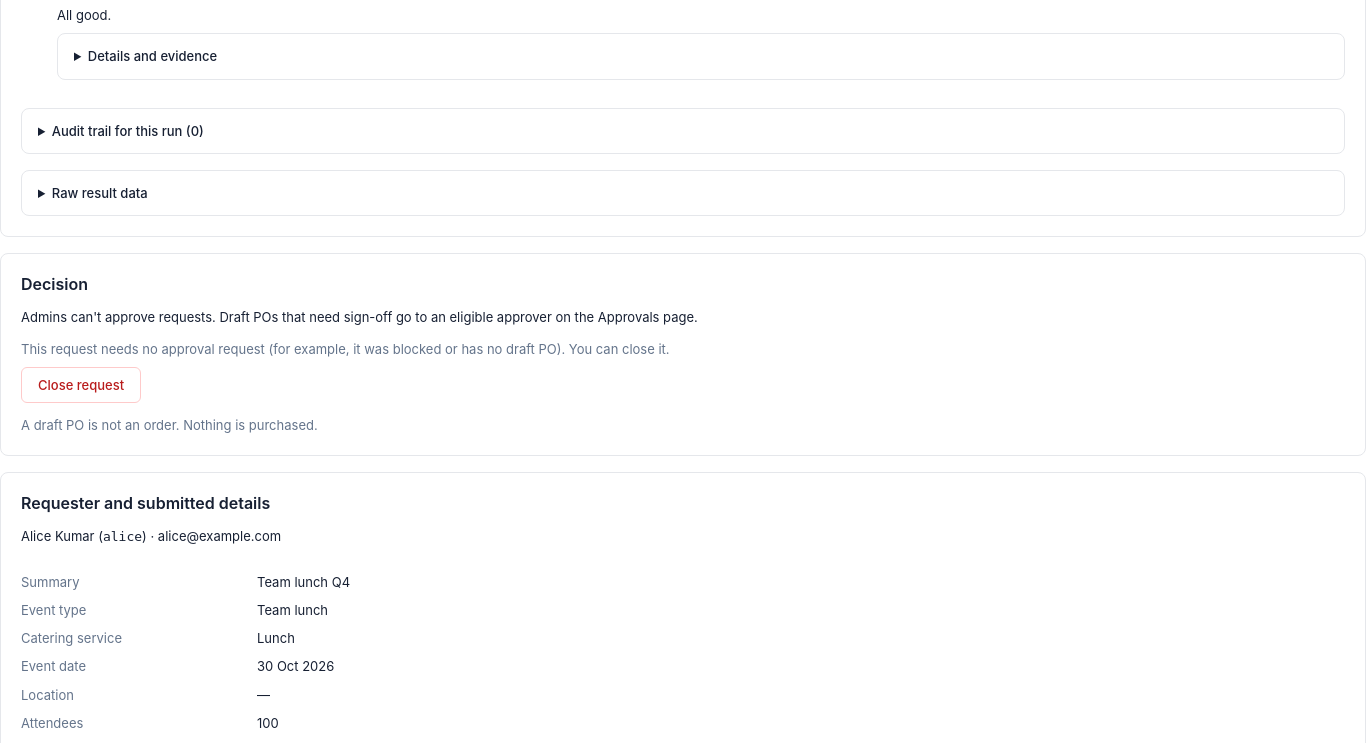
it: AdminRequestDetailPage › closes a reviewed request only after confirming with a reason
(page scrolled)
Step 1. Click the button "Close request" → (81, 385), box [21,367,141,403]
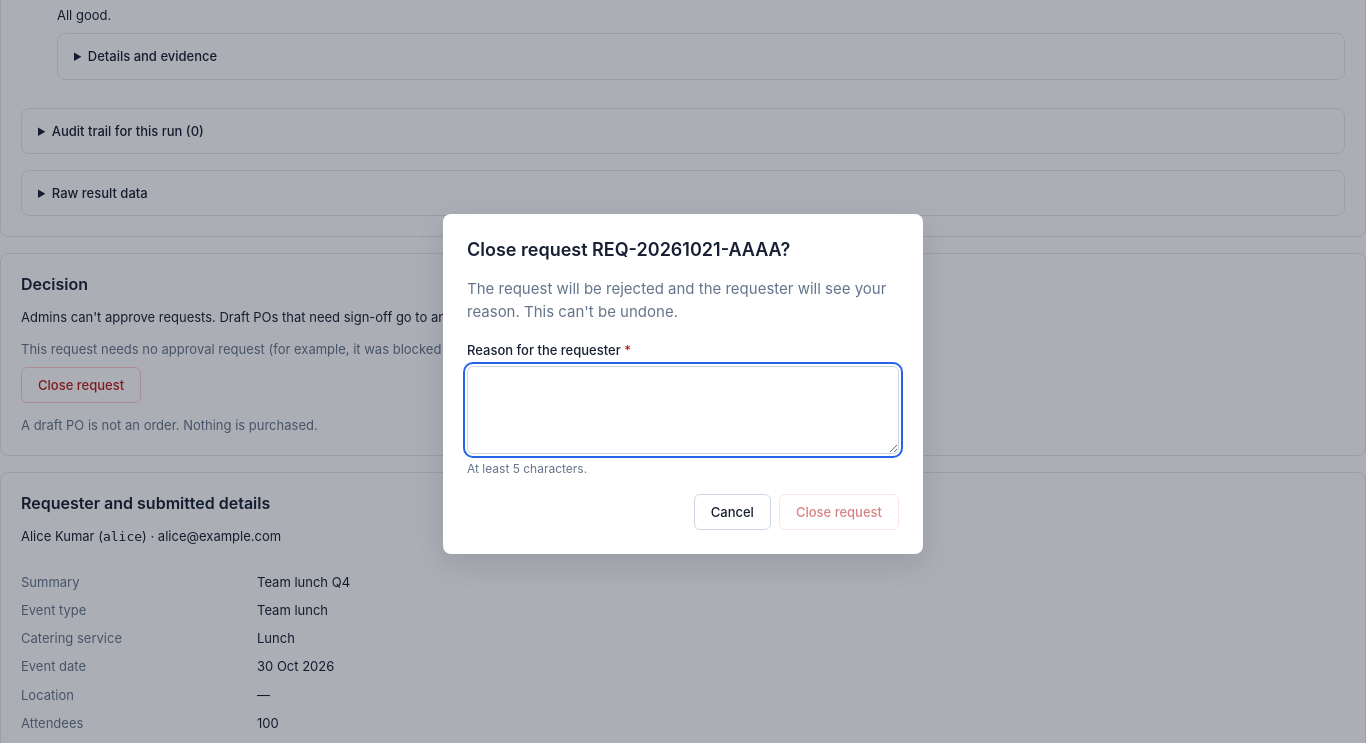
expect the button "Close request" is disabled: met, box [779,494,899,530]
Step 2. Type "Blocked by policy" into the text box labelled "Reason for the requester" → (683, 410), box [467,366,899,454]
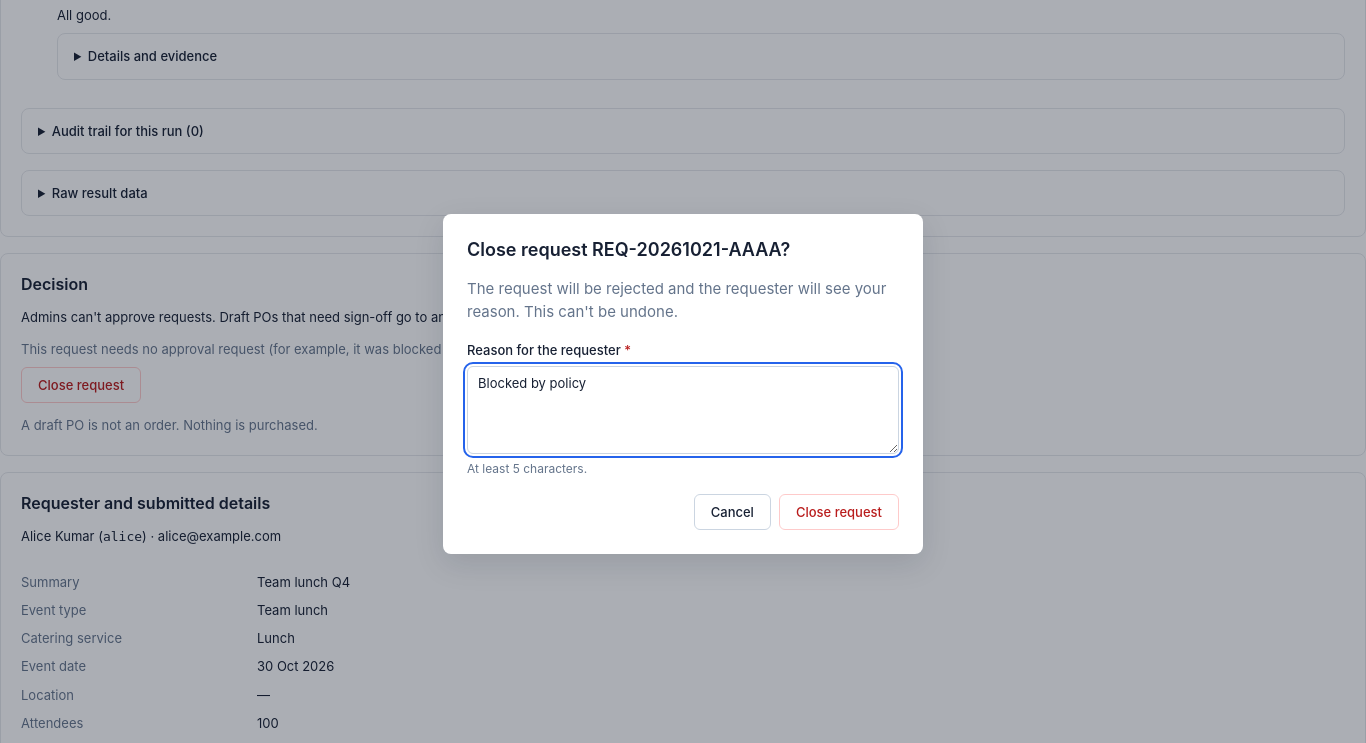
Step 3. Click the button "Close request" → (839, 512), box [779,494,899,530]
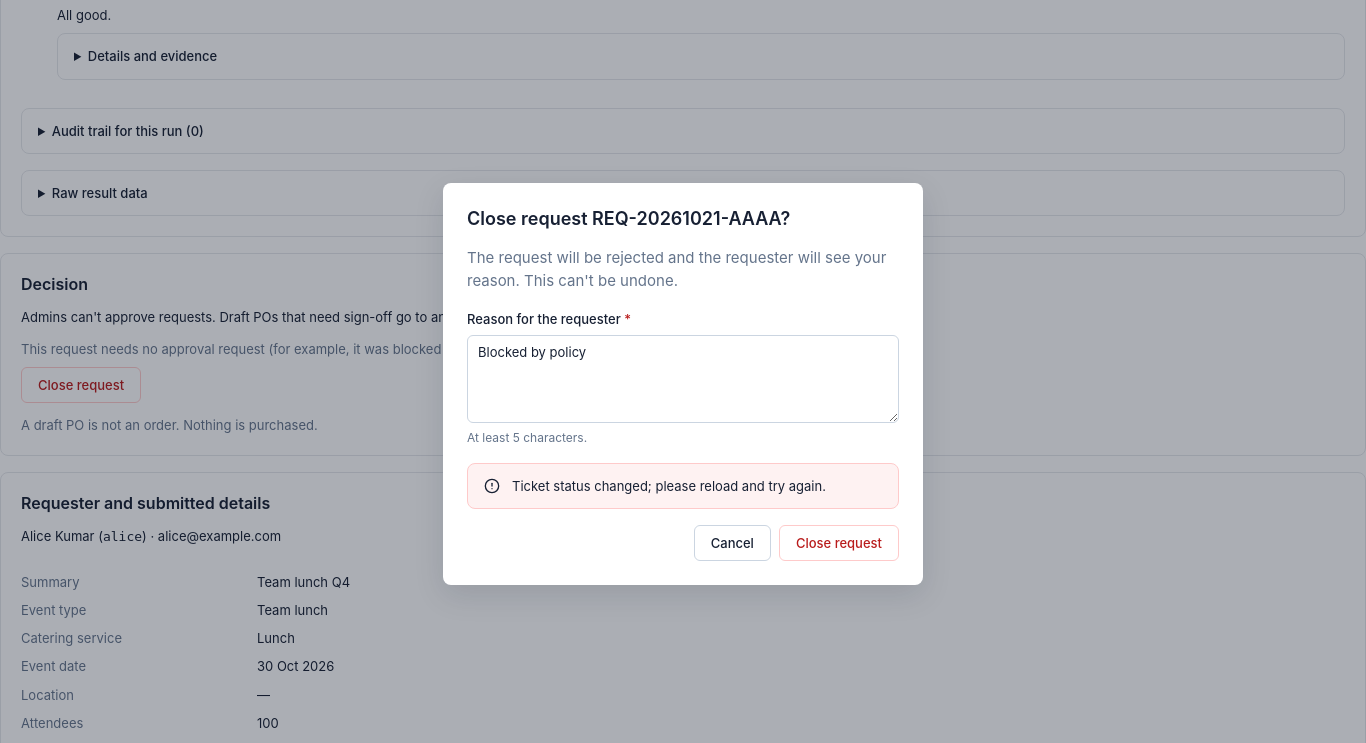
expect the dialog is shown: met, box [443,183,923,585]
expect the text "Ticket status changed; please reload and try again." is shown: met, box [512,476,826,496]
Step 4. Click the button "Close request" → (839, 543), box [779,525,899,561]
(page scrolled)
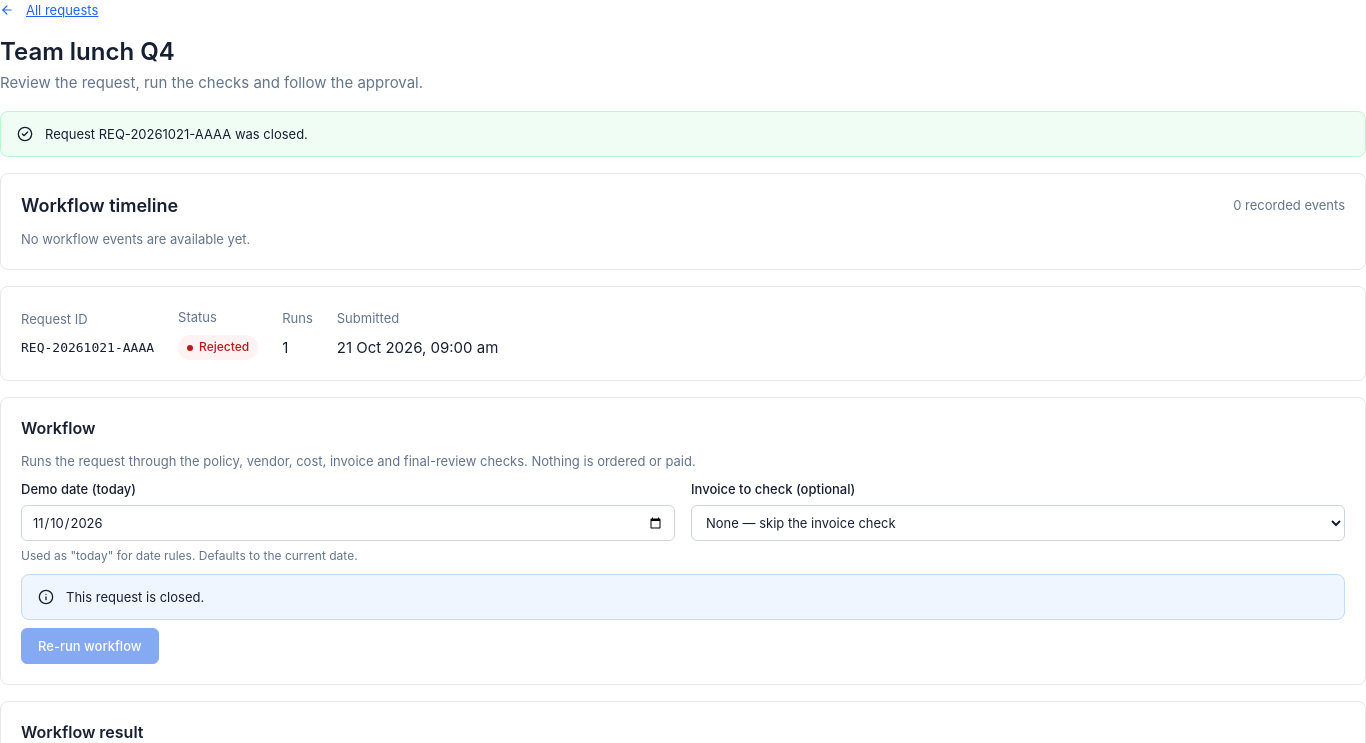
expect the dialog is gone: met
